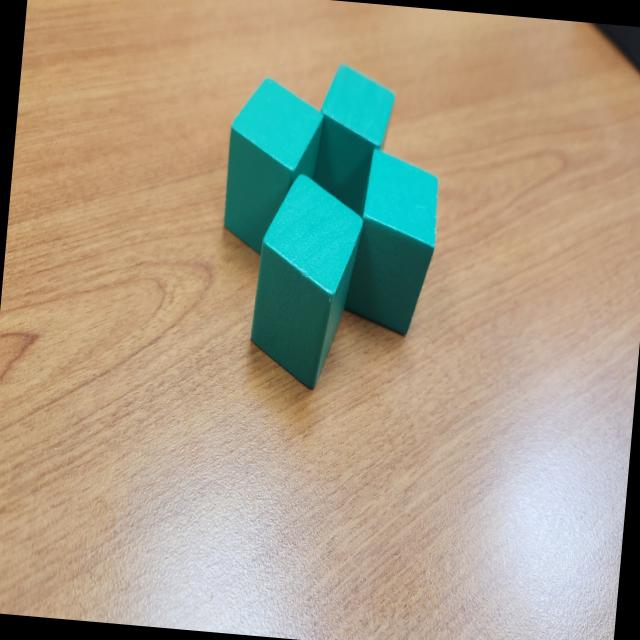green: (246, 168, 368, 393), (218, 73, 328, 265), (340, 146, 442, 338), (309, 60, 396, 223)
